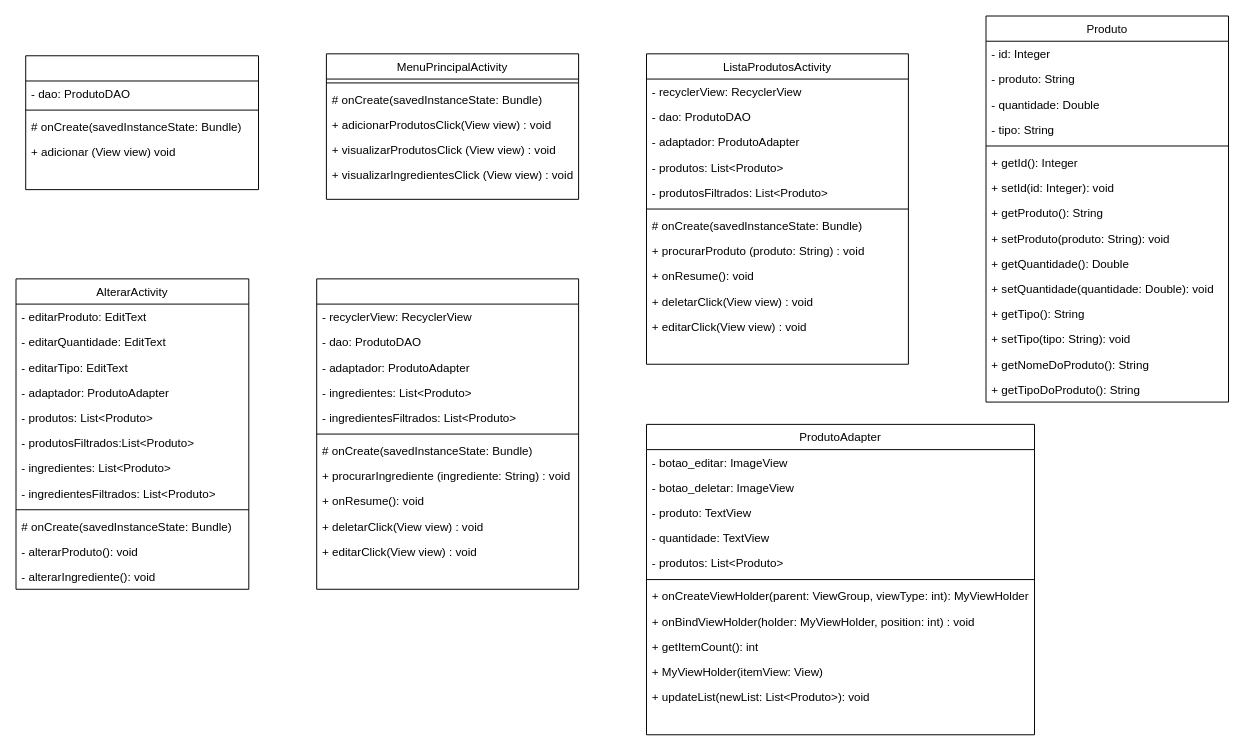
Some shapes in this 1245 by 751 pixel diagram are drawn without their labels. Here are the shapes that lost their labels. From the top down, the box of each, then its label:
(25, 55, 259, 190): MainActivity
(316, 278, 579, 589): ListaIngredientesActivity
